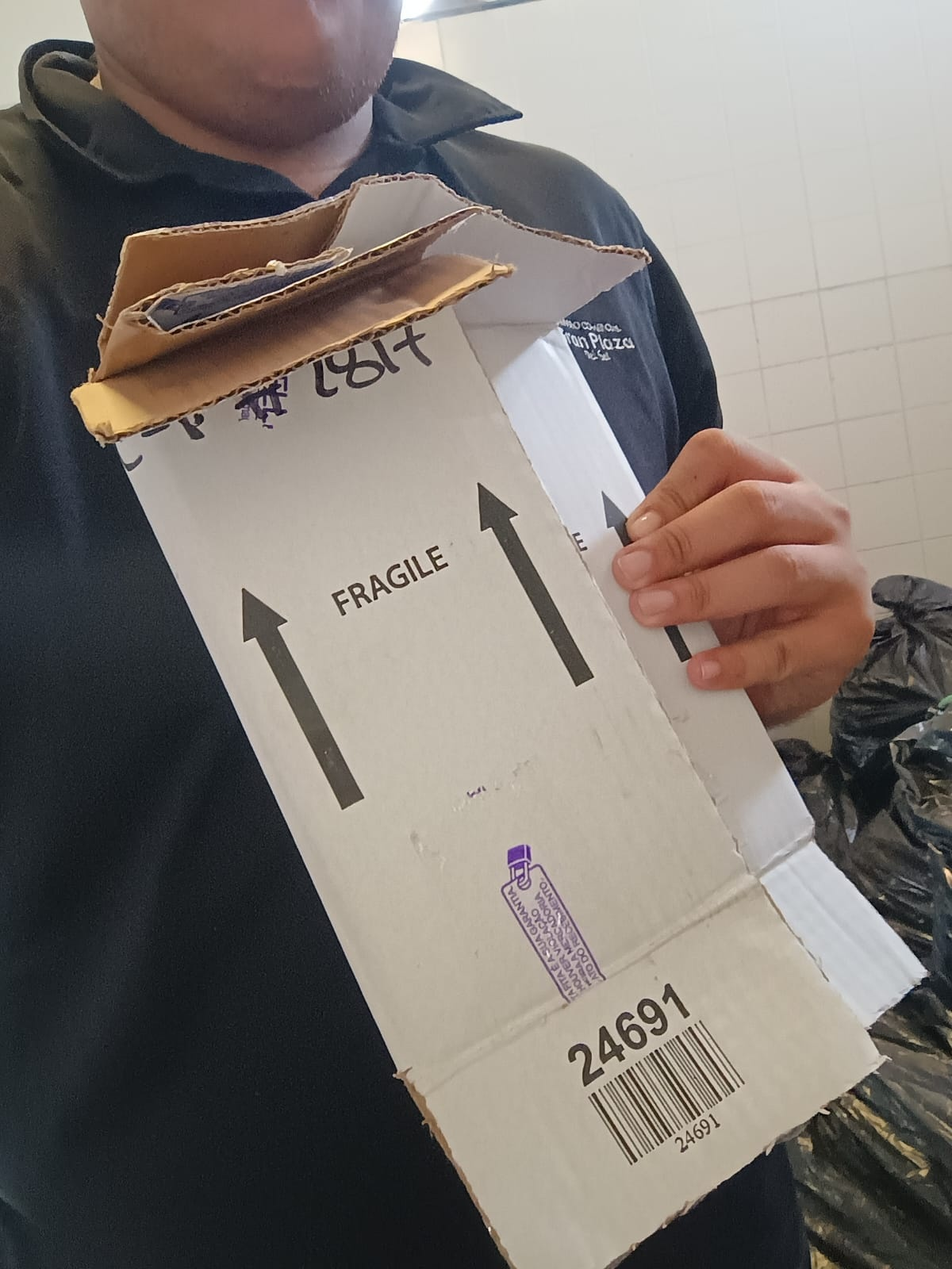Carton: (73, 175, 931, 1267)
